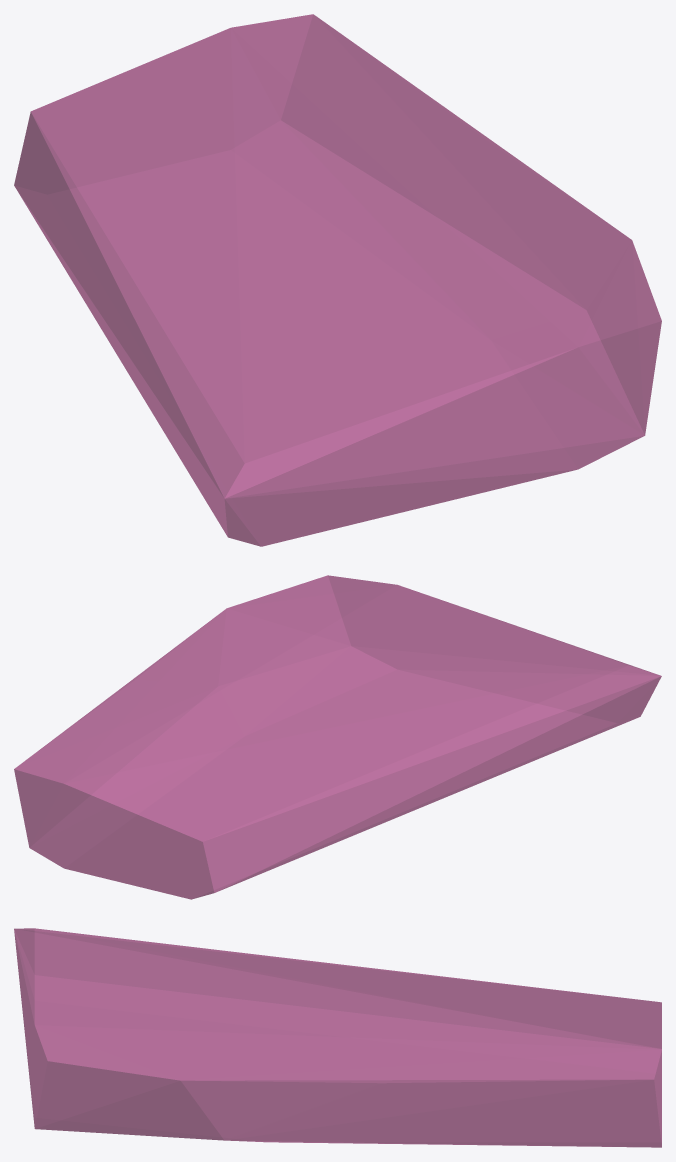
3 views of the same model, one above another, from view 1: azimuth 30°, elevation 25°; view 2: azimuth 150°, elevation 25°; view 3: azimuth 270°, elevation 25° (orthographic). The views are drawn at different scales.
Parts seen in each view (by area): view 1: Shape_IndexedFaceSet.007_Shape_IndexedFaceSet.2968; view 2: Shape_IndexedFaceSet.007_Shape_IndexedFaceSet.2968; view 3: Shape_IndexedFaceSet.007_Shape_IndexedFaceSet.2968.
Boxes of the visible parts, x1,y1,x2,y2 form: Shape_IndexedFaceSet.007_Shape_IndexedFaceSet.2968: (14, 14, 661, 546); Shape_IndexedFaceSet.007_Shape_IndexedFaceSet.2968: (14, 575, 661, 899); Shape_IndexedFaceSet.007_Shape_IndexedFaceSet.2968: (14, 928, 661, 1147).
Bounding box in the file's own units: 0.0725 × 0.0164 × 0.1038.
